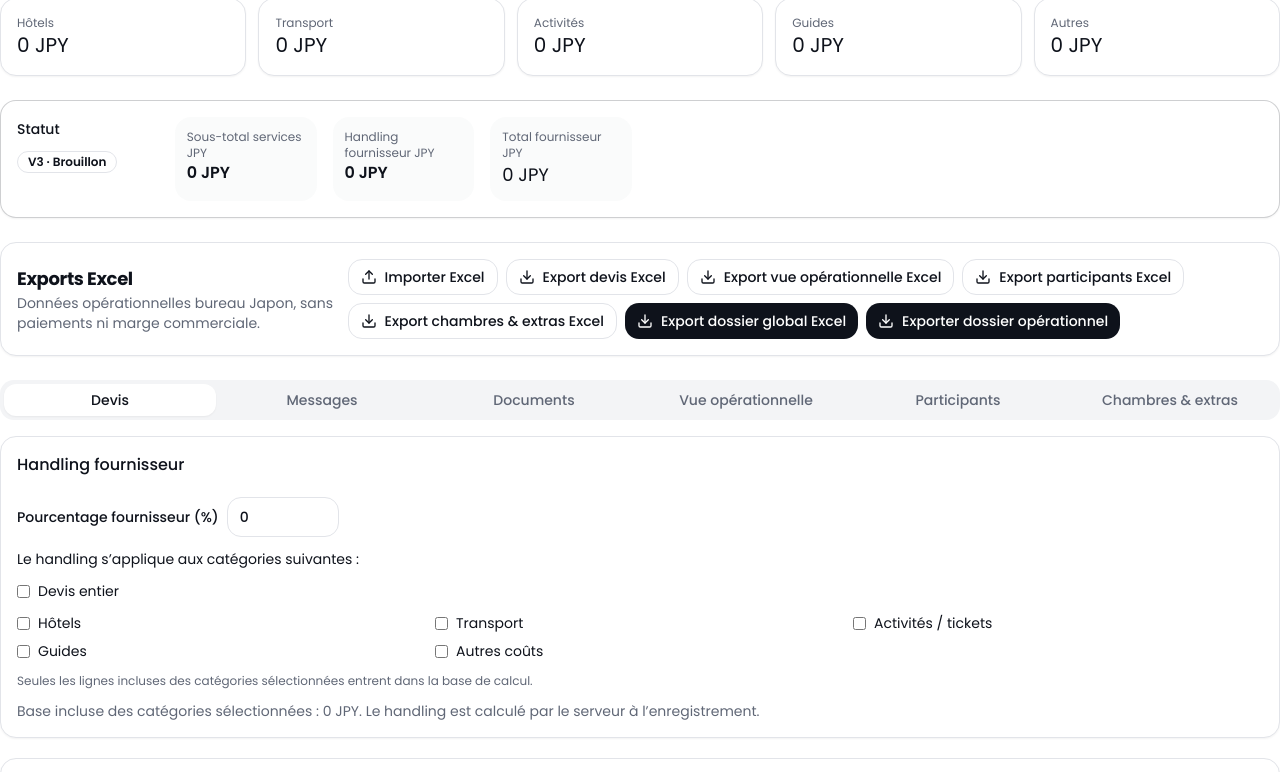
existing Messages/Documents backend integration › surfaces private-file signing errors instead of silently dropping file access
(page scrolled)
Press the mouse on the tab "Documents": (534,400) [428,384,640,416]
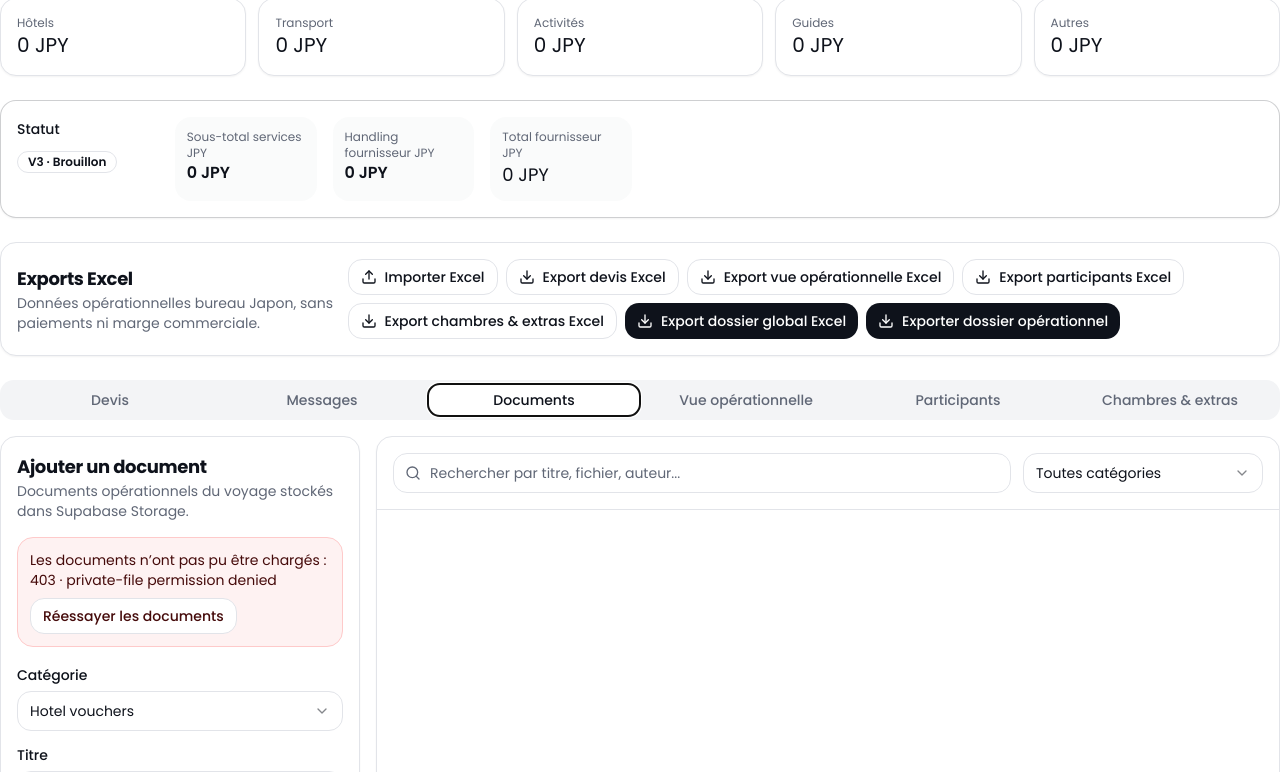
Check: the message shows "private-file permission denied", box [30,570,277,590]
